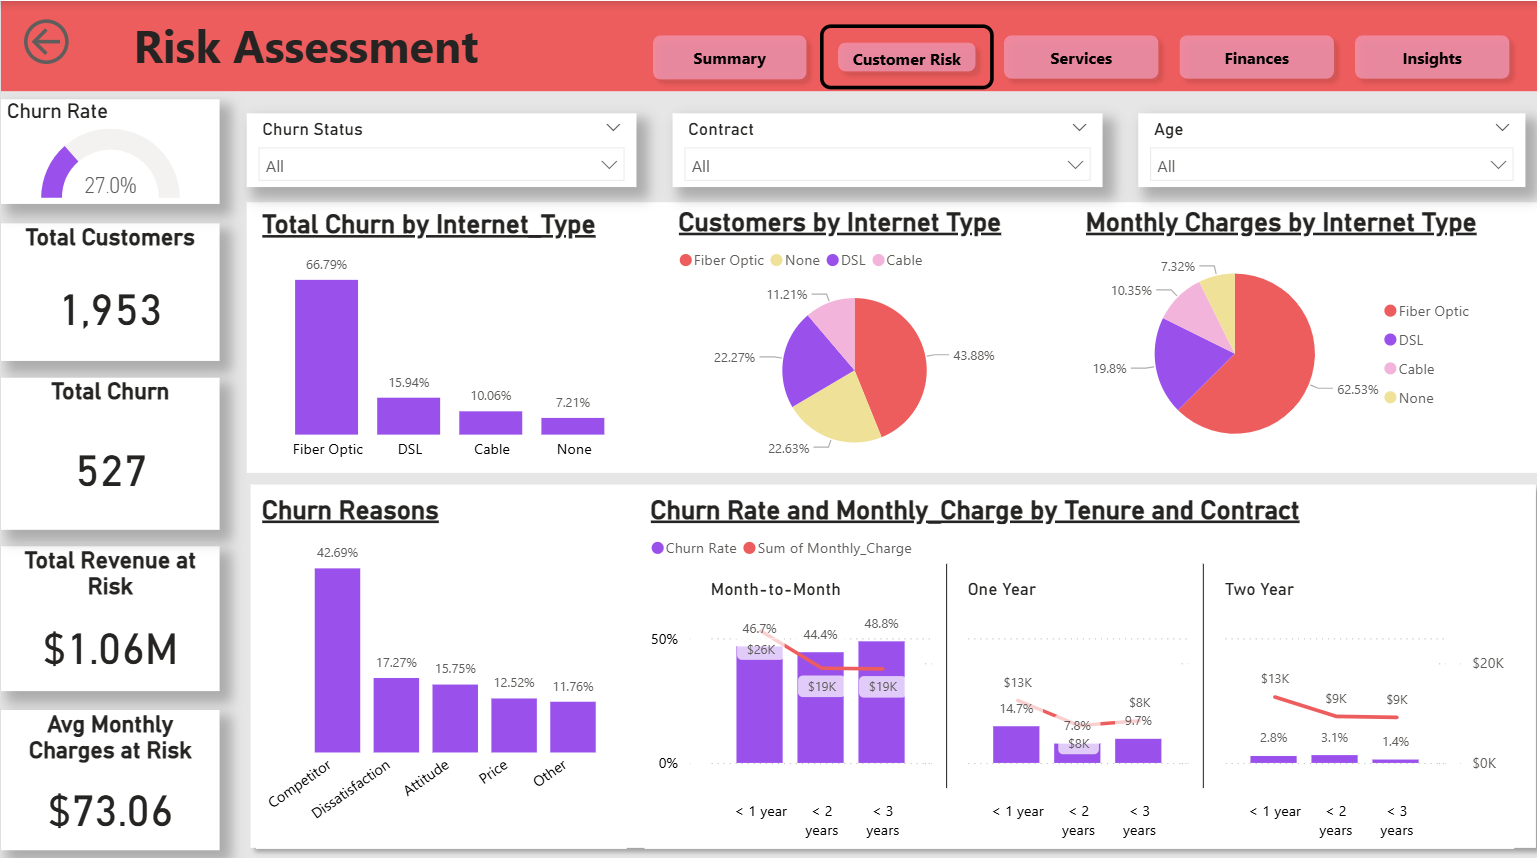

The page's visual inventory and layout, read from the dashboard file:
{"tool":"powerbi","page":{"name":"Customer Risk","canvas":[1280,720],"ordinal":2},"visuals":[{"type":"shape","box":[197,392,1083.4,319.1],"z":0},{"type":"shape","box":[0,0,1280.4,74.9],"z":1000},{"type":"card","title":"Total Customers","fields":{"Values":["Measures (2).Total Customer"]},"box":[0,185.2,181.2,114.2],"z":2000},{"type":"card","title":"Total Revenue at Risk","fields":{"Values":["Measures (2).Potential Revenue At Risk"]},"box":[0,451.1,181.2,120.2],"z":3000},{"type":"card","title":"Avg Monthly Charges at Risk","fields":{"Values":["Measures (2).Avg Monthly Charge At Risk"]},"box":[0,587,181.2,116.2],"z":4000},{"type":"card","title":"Total Churn","fields":{"Values":["Measures (2).Total Churn"]},"box":[0,313.2,181.2,126.1],"z":5000},{"type":"shape","box":[202.9,167.4,1077.5,224.6],"z":6000},{"type":"clusteredColumnChart","title":"Churn Reasons","fields":{"Y":["Measures (2).Total Churn"],"Category":["telecom cleaned_data.Churn_Category"]},"box":[210.8,409.7,307.3,293.5],"z":7000},{"type":"gauge","fields":{"Y":["Measures (2).Churn Rate"]},"box":[0,80.8,181.2,86.7],"z":8000},{"type":"pieChart","title":"Customers by Internet Type","fields":{"Y":["Measures (2).Total Customer"],"Category":["telecom cleaned_data.Internet_Type"]},"box":[557.5,171.4,301.4,218.7],"z":9000},{"type":"pieChart","title":"Monthly Charges by Internet Type","fields":{"Y":["Sum(telecom cleaned_data.Monthly_Charge)"],"Category":["telecom cleaned_data.Internet_Type"]},"box":[894.3,171.4,336.9,218.7],"z":10000},{"type":"clusteredColumnChart","title":"Total Churn by Internet_Type","fields":{"Category":["telecom cleaned_data.Internet_Type"],"Y":["Measures (2).Total Churn"]},"box":[210.8,173.4,323.1,216.7],"z":11000},{"type":"lineClusteredColumnComboChart","title":"Churn Rate and Monthly_Charge by Tenure and Contract","fields":{"Category":["telecom cleaned_data.Loyalty"],"Y":["Measures (2).Churn Rate"],"Y2":["Sum(telecom cleaned_data.Monthly_Charge)"],"Rows":["telecom cleaned_data.Contract"]},"box":[533.8,409.7,721,293.5],"z":12000},{"type":"slicer","fields":{"Values":["telecom cleaned_data.Customer_Status"]},"box":[202.9,92.6,323.1,61.1],"z":13000},{"type":"slicer","fields":{"Values":["telecom cleaned_data.Contract"]},"box":[557.5,92.6,356.6,61.1],"z":14000},{"type":"slicer","fields":{"Values":["telecom cleaned_data.Age"]},"box":[943.6,92.6,321.1,61.1],"z":15000},{"type":"textbox","box":[104.4,5.9,403.8,72.9],"z":16000},{"type":"actionButton","box":[13.3,10,51.7,48.3],"z":17000},{"type":"actionButton","box":[532,19,145.2,54.7],"z":18000},{"type":"actionButton","box":[678,20,144,54],"z":19000},{"type":"actionButton","box":[822,20,146,54],"z":20000},{"type":"actionButton","box":[1114,20,146,54],"z":21000},{"type":"actionButton","box":[968,20,146,54],"z":22000}]}

Visuals, with their boxes in screenshot pixels (x1, y1, x2, y2), scaled from the page's 1280x720 canvas onto the 1537x858 screenshot:
shape: (237, 467, 1536, 847)
shape: (0, 0, 1536, 89)
"Total Customers" card: (0, 221, 218, 357)
"Total Revenue at Risk" card: (0, 538, 218, 681)
"Avg Monthly Charges at Risk" card: (0, 700, 218, 838)
"Total Churn" card: (0, 373, 218, 523)
shape: (244, 199, 1536, 467)
"Churn Reasons" clusteredColumnChart: (253, 488, 622, 838)
gauge - Measures (2).Churn Rate: (0, 96, 218, 200)
"Customers by Internet Type" pieChart: (669, 204, 1031, 465)
"Monthly Charges by Internet Type" pieChart: (1074, 204, 1478, 465)
"Total Churn by Internet_Type" clusteredColumnChart: (253, 207, 641, 465)
"Churn Rate and Monthly_Charge by Tenure and Contract" lineClusteredColumnComboChart: (641, 488, 1507, 838)
slicer - telecom cleaned_data.Customer_Status: (244, 110, 632, 183)
slicer - telecom cleaned_data.Contract: (669, 110, 1098, 183)
slicer - telecom cleaned_data.Age: (1133, 110, 1519, 183)
textbox: (125, 7, 610, 94)
actionButton: (16, 12, 78, 69)
actionButton: (639, 23, 813, 88)
actionButton: (814, 24, 987, 88)
actionButton: (987, 24, 1162, 88)
actionButton: (1338, 24, 1513, 88)
actionButton: (1162, 24, 1338, 88)
